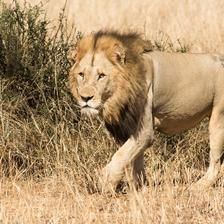Lion: (68, 29, 224, 200)
